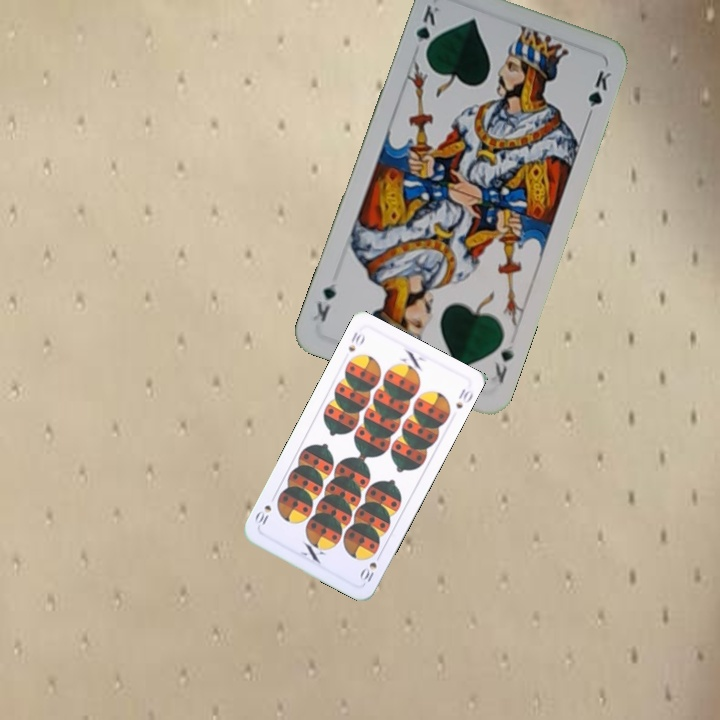GK: (411, 1, 442, 59), (490, 341, 517, 387)
S10: (356, 549, 384, 585), (344, 328, 368, 355)
